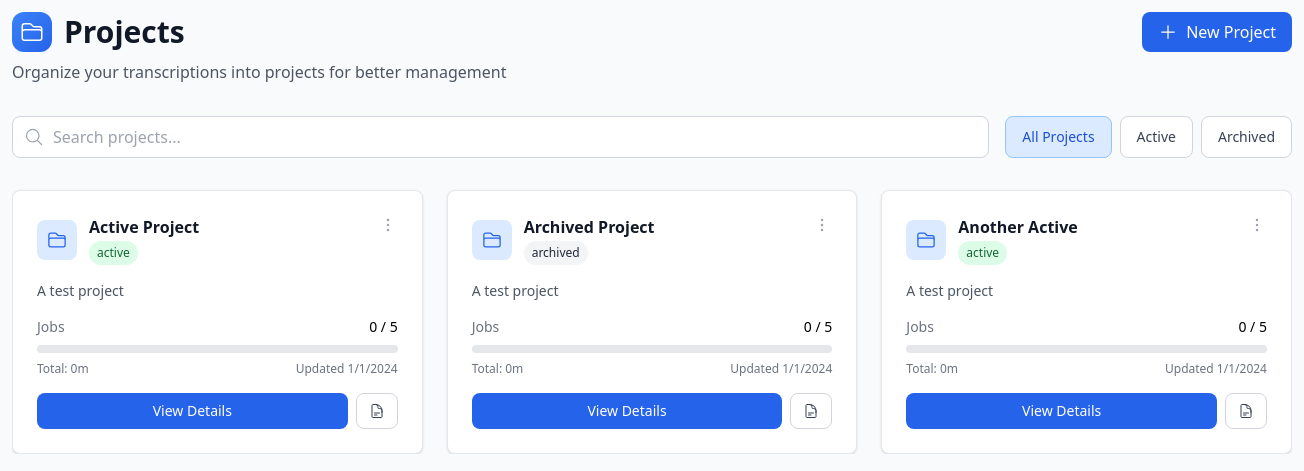
Test: ProjectsPage Component › Filter Functionality › should filter by active projects
The image size is (1304, 471).
Check: the heading "Active Project" is shown, box [89,215,199,239]
Click the button "Active".
click(1156, 137)  # box [1120,116,1193,158]
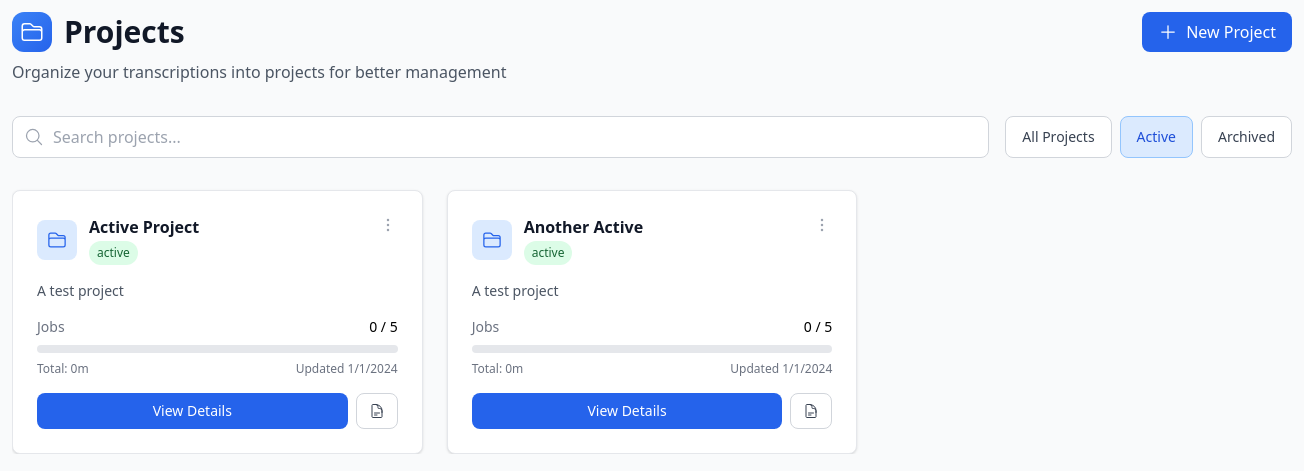
Check: the heading "Active Project" is shown, box [89,215,199,239]
Check: the heading "Archived Project" is gone
